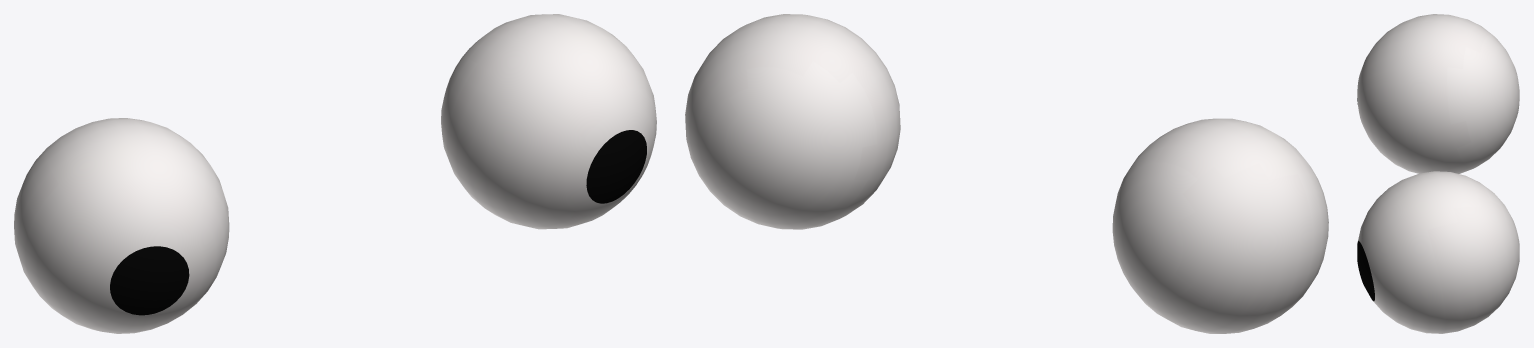
The model's file is eyes_01.fbx.
The picture shows the model from 3 angles, left to right: view 1: azimuth 30°, elevation 25°; view 2: azimuth 150°, elevation 25°; view 3: azimuth 270°, elevation 25°; orthographic projection. The views are drawn at different scales.
Parts seen in each view (by area): view 1: Eyes_01; view 2: Eyes_01; view 3: Eyes_01.
Part boxes in pixels (box(x1,y1,x2,y2)): Eyes_01: box(14, 14, 656, 333); Eyes_01: box(685, 14, 1328, 333); Eyes_01: box(1357, 14, 1519, 333).
Size of the model in its own units: 70 by 21.34 by 21.26.
